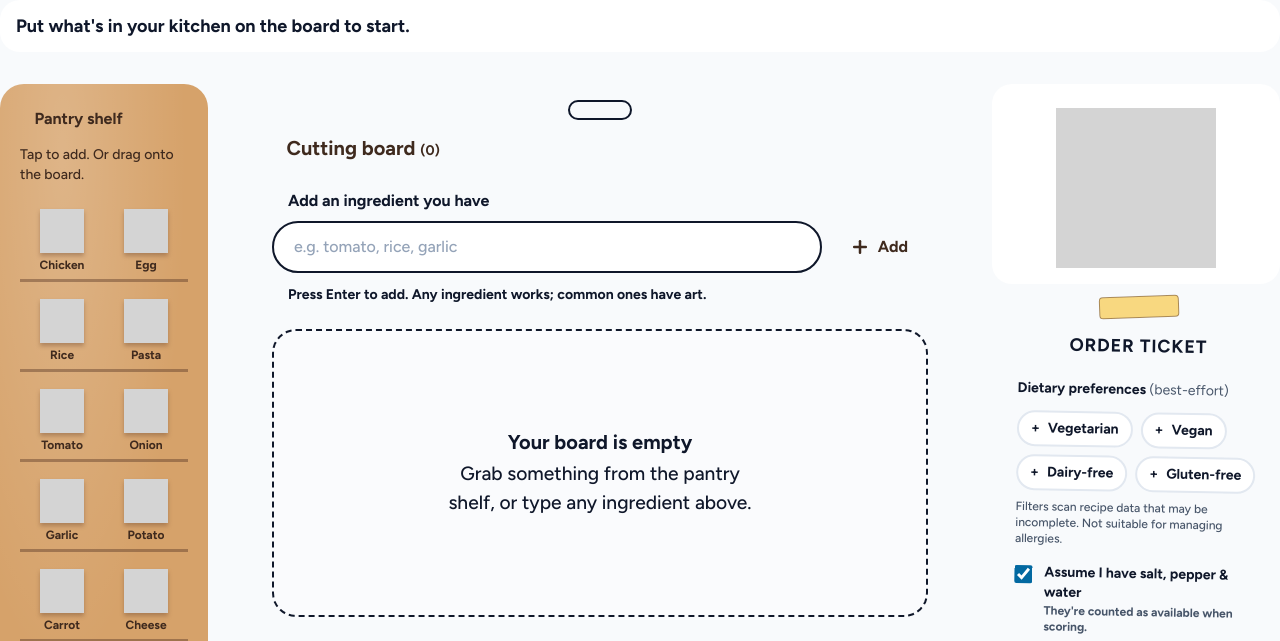
Scenario: PantryQuest › adds ingredients with Enter and the Add button
Type "chicken" into the dropdown labelled "Add an ingredient you have".
click(547, 247); type("chicken")  # box [272,221,822,273]
Then press Enter
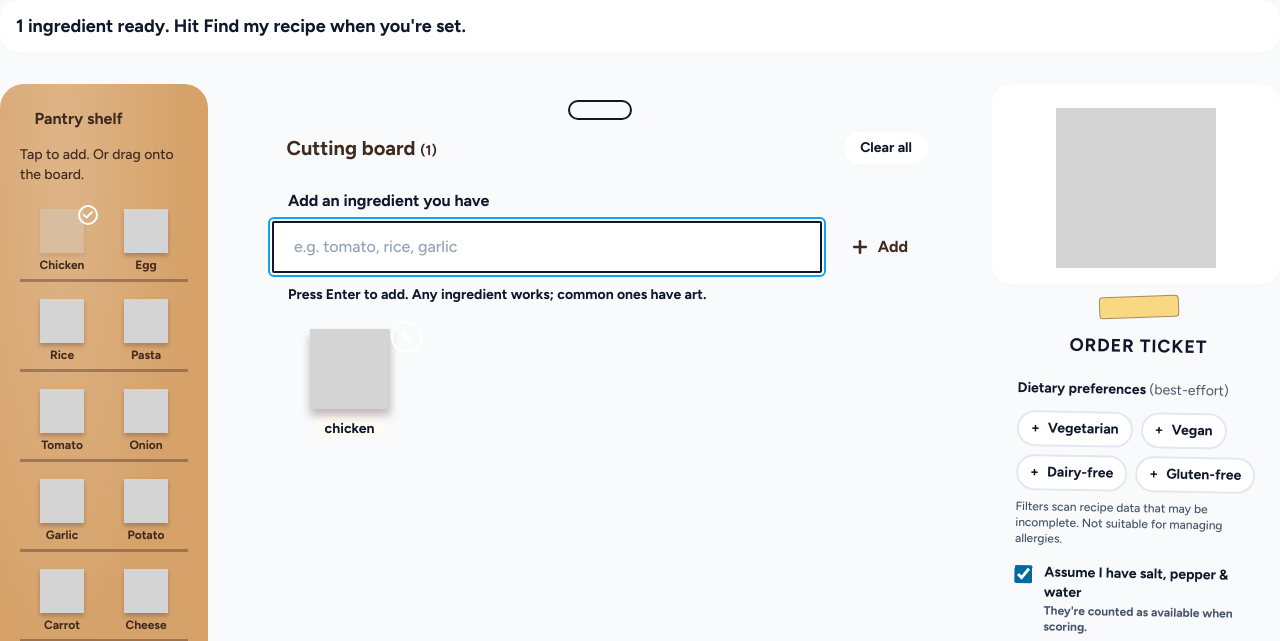
Type "Rice" into the dropdown labelled "Add an ingredient you have".
click(547, 247); type("Rice")  # box [272,221,822,273]
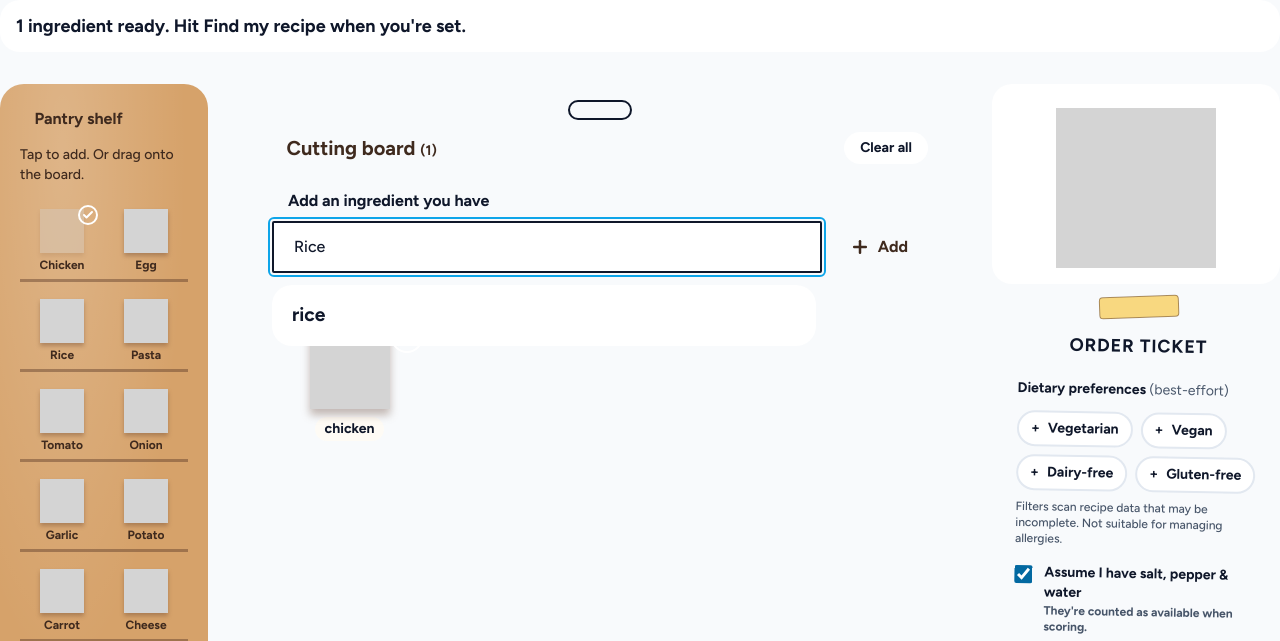
Click the button "Add".
click(879, 247)  # box [830,221,928,273]
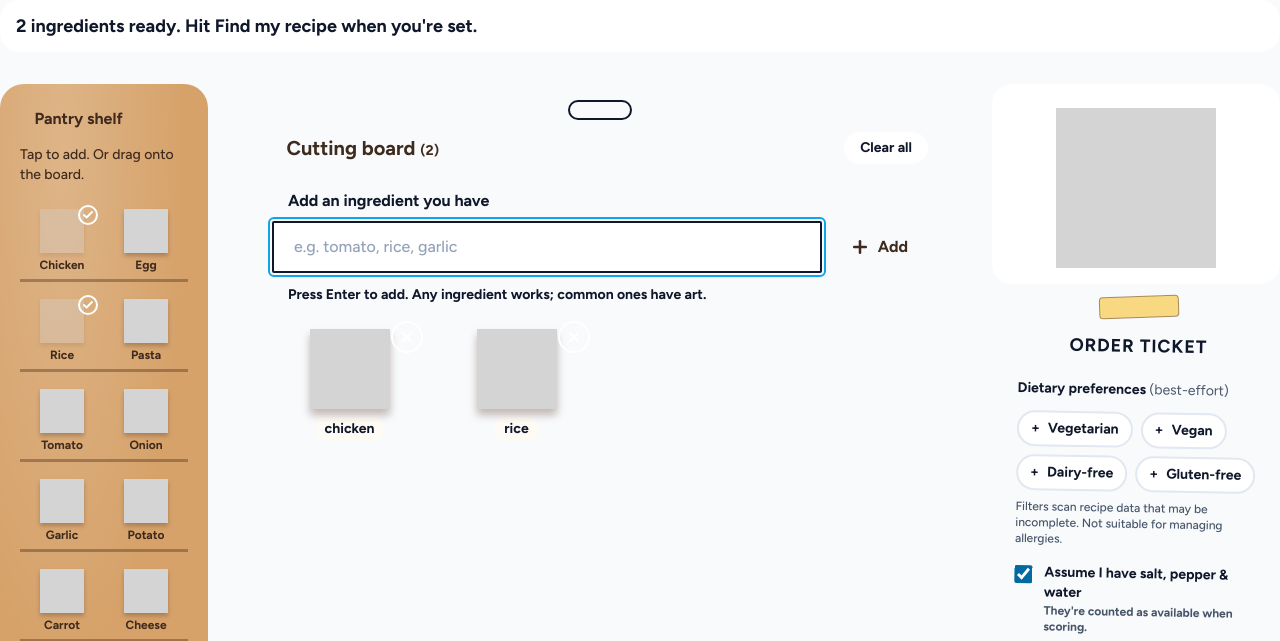
Expected: the text "chicken" is shown, [315,417,384,441]
Expected: the text "rice" is shown, [494,417,539,441]
Expected: the dropdown labelled "Add an ingredient you have" is empty, [272,221,822,273]
